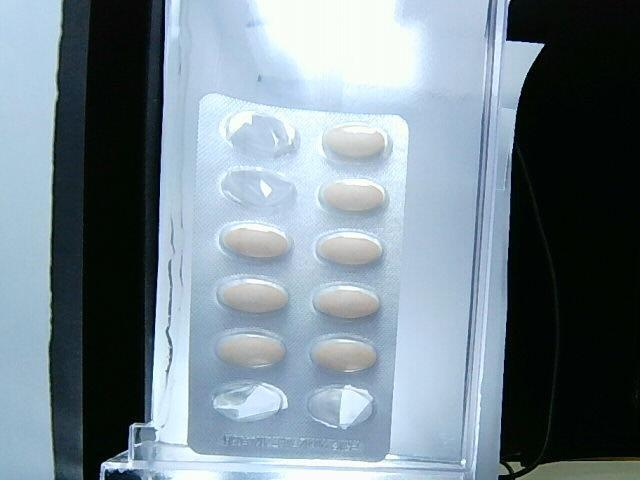Light Front: (186, 94, 409, 464)
No Pill Front: (225, 111, 298, 157), (213, 380, 288, 421), (221, 166, 294, 207), (308, 385, 373, 429)
Pill Front: (215, 328, 286, 368), (216, 275, 288, 313), (323, 124, 391, 164), (219, 223, 292, 259), (310, 334, 377, 372), (315, 230, 382, 265), (313, 283, 380, 318), (319, 180, 386, 211)
